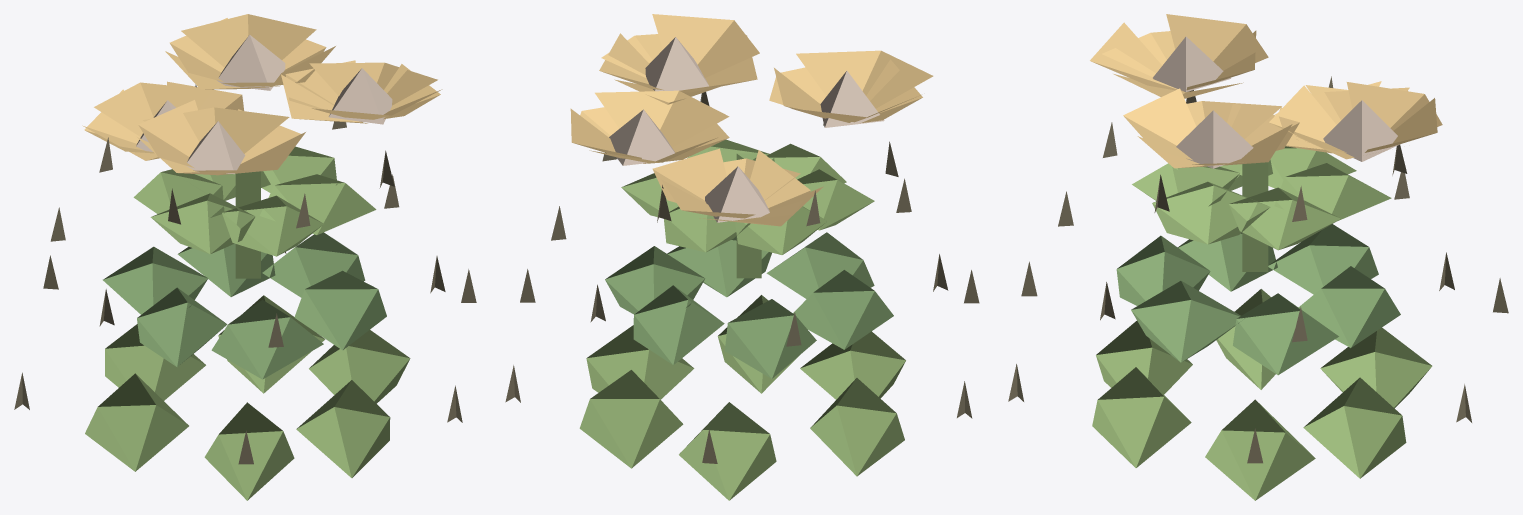
The model's file is cao.shamo__spring.glb.
The picture shows the model from 3 angles, left to right: view 1: azimuth 30°, elevation 25°; view 2: azimuth 150°, elevation 25°; view 3: azimuth 270°, elevation 25°; orthographic projection. The views are drawn at different scales.
Parts seen in each view (by area): view 1: cao.shamo__spring; view 2: cao.shamo__spring; view 3: cao.shamo__spring.
Part boxes in pixels (left/top/right/bottom): cao.shamo__spring: left=14, top=14, right=476, bottom=500; cao.shamo__spring: left=505, top=14, right=979, bottom=500; cao.shamo__spring: left=1008, top=14, right=1508, bottom=500.
Size of the model in its own units: 1.8 by 1.4 by 1.66.
